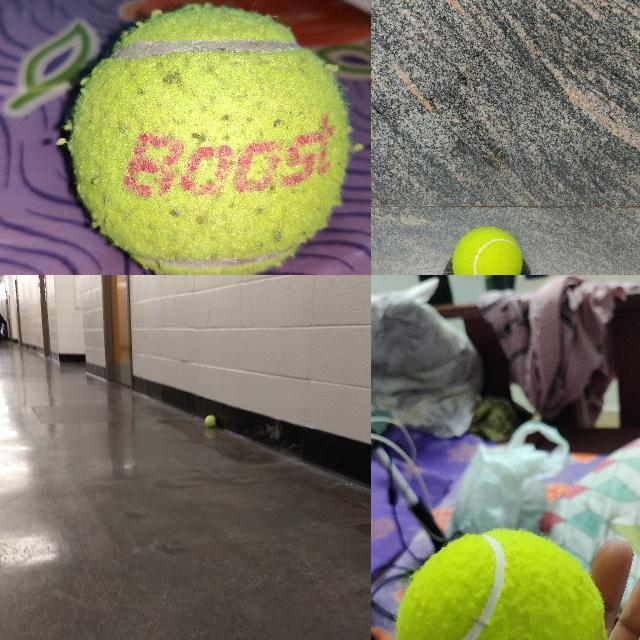tennis-ball: (69, 0, 352, 274), (395, 526, 608, 639), (452, 226, 523, 274), (205, 414, 216, 427)
